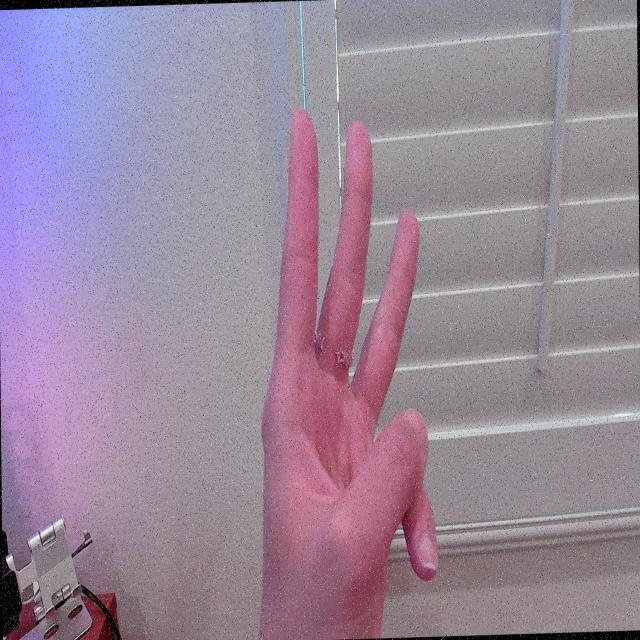W: (252, 96, 449, 640)
